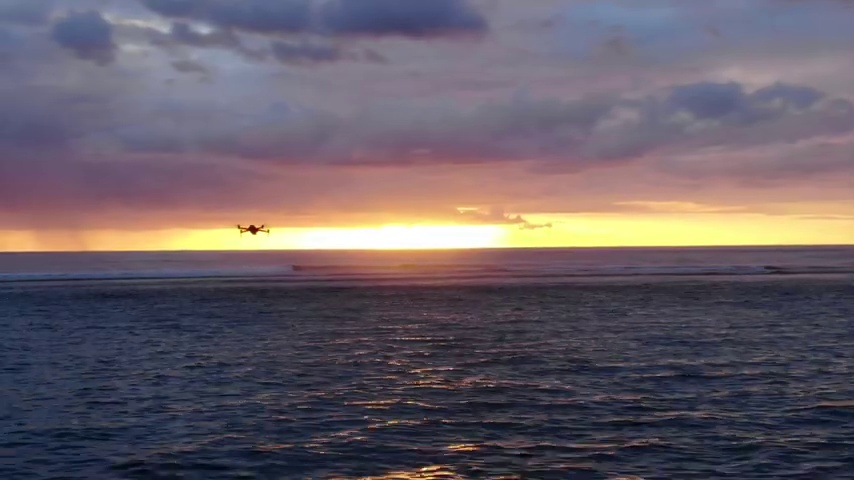drone: (236, 222, 271, 234)
